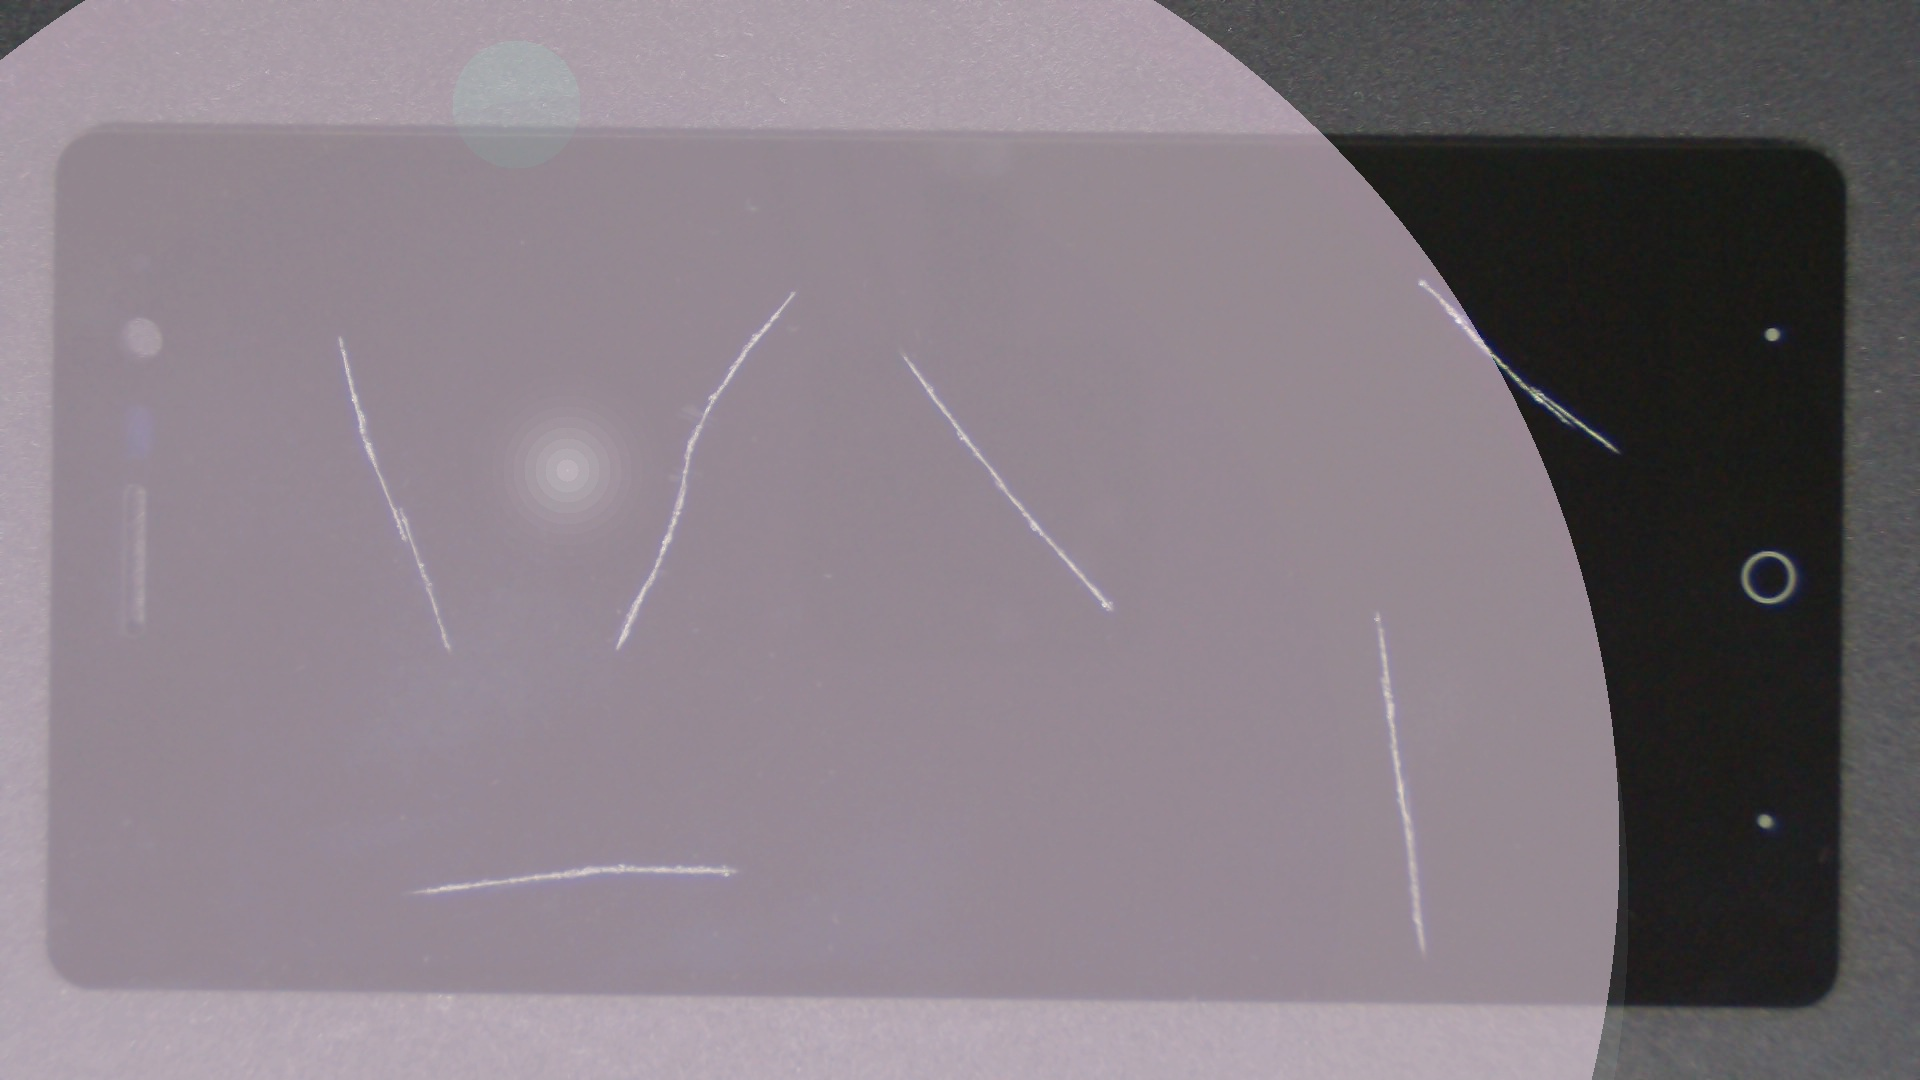oil: (690, 305, 1920, 914), (310, 430, 926, 1080), (709, 137, 1920, 417), (450, 174, 1350, 530), (394, 142, 1183, 436), (171, 166, 509, 502)
